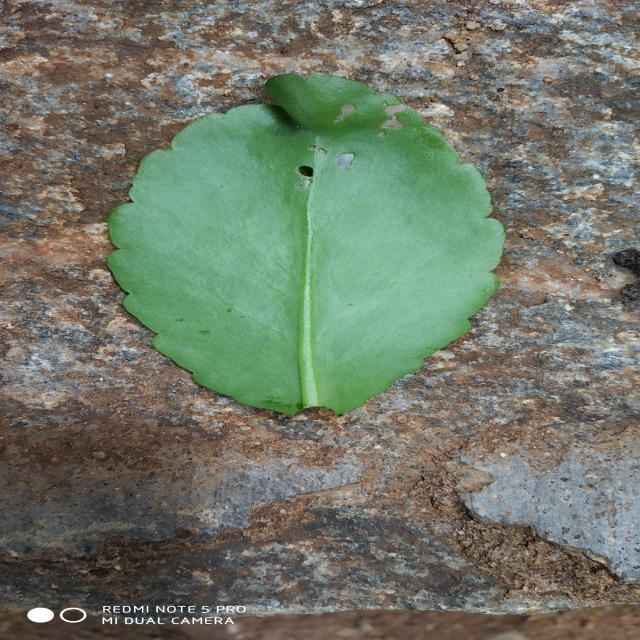defectedspinach: (216, 74, 424, 202)
spinach: (107, 74, 504, 414)
